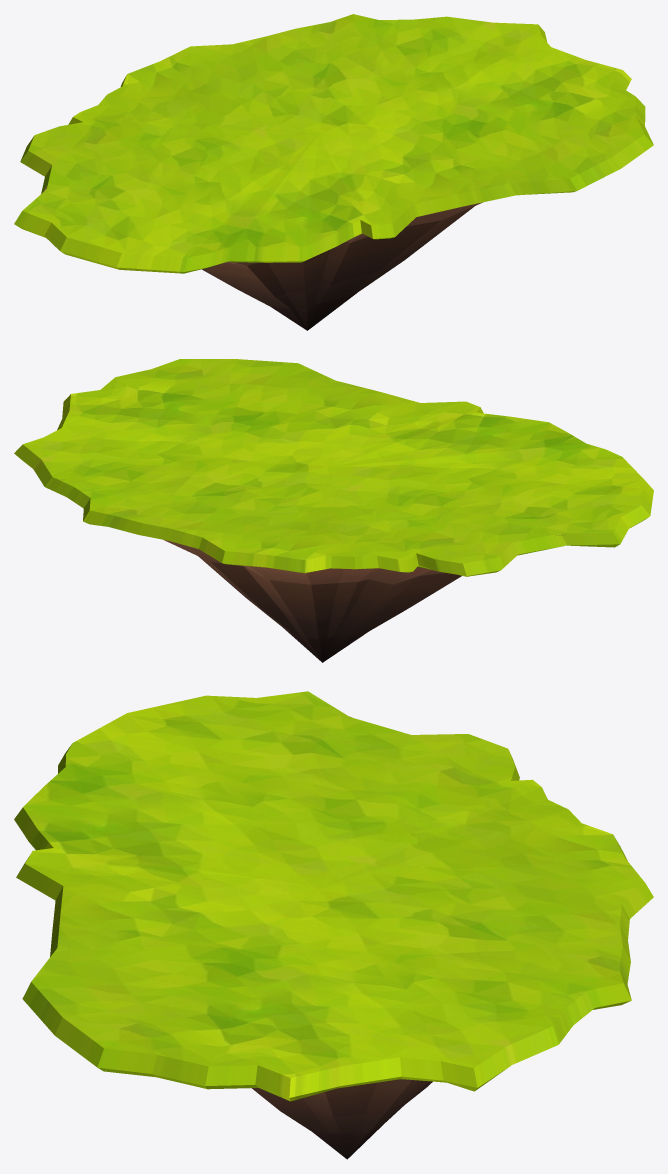
The model's file is sala_espera.fbx.
The picture shows the model from 3 angles, top to bottom: view 1: azimuth 30°, elevation 25°; view 2: azimuth 150°, elevation 25°; view 3: azimuth 270°, elevation 25°; orthographic projection. The views are drawn at different scales.
Parts seen in each view (by area): view 1: isla; view 2: isla; view 3: isla.
Part boxes in pixels (<box>): isla: <box>14,14,653,330</box>; isla: <box>14,359,653,662</box>; isla: <box>14,691,653,1159</box>.
Size of the model in its own units: 1778 by 571 by 1206.
2 materials, 2 textured.
